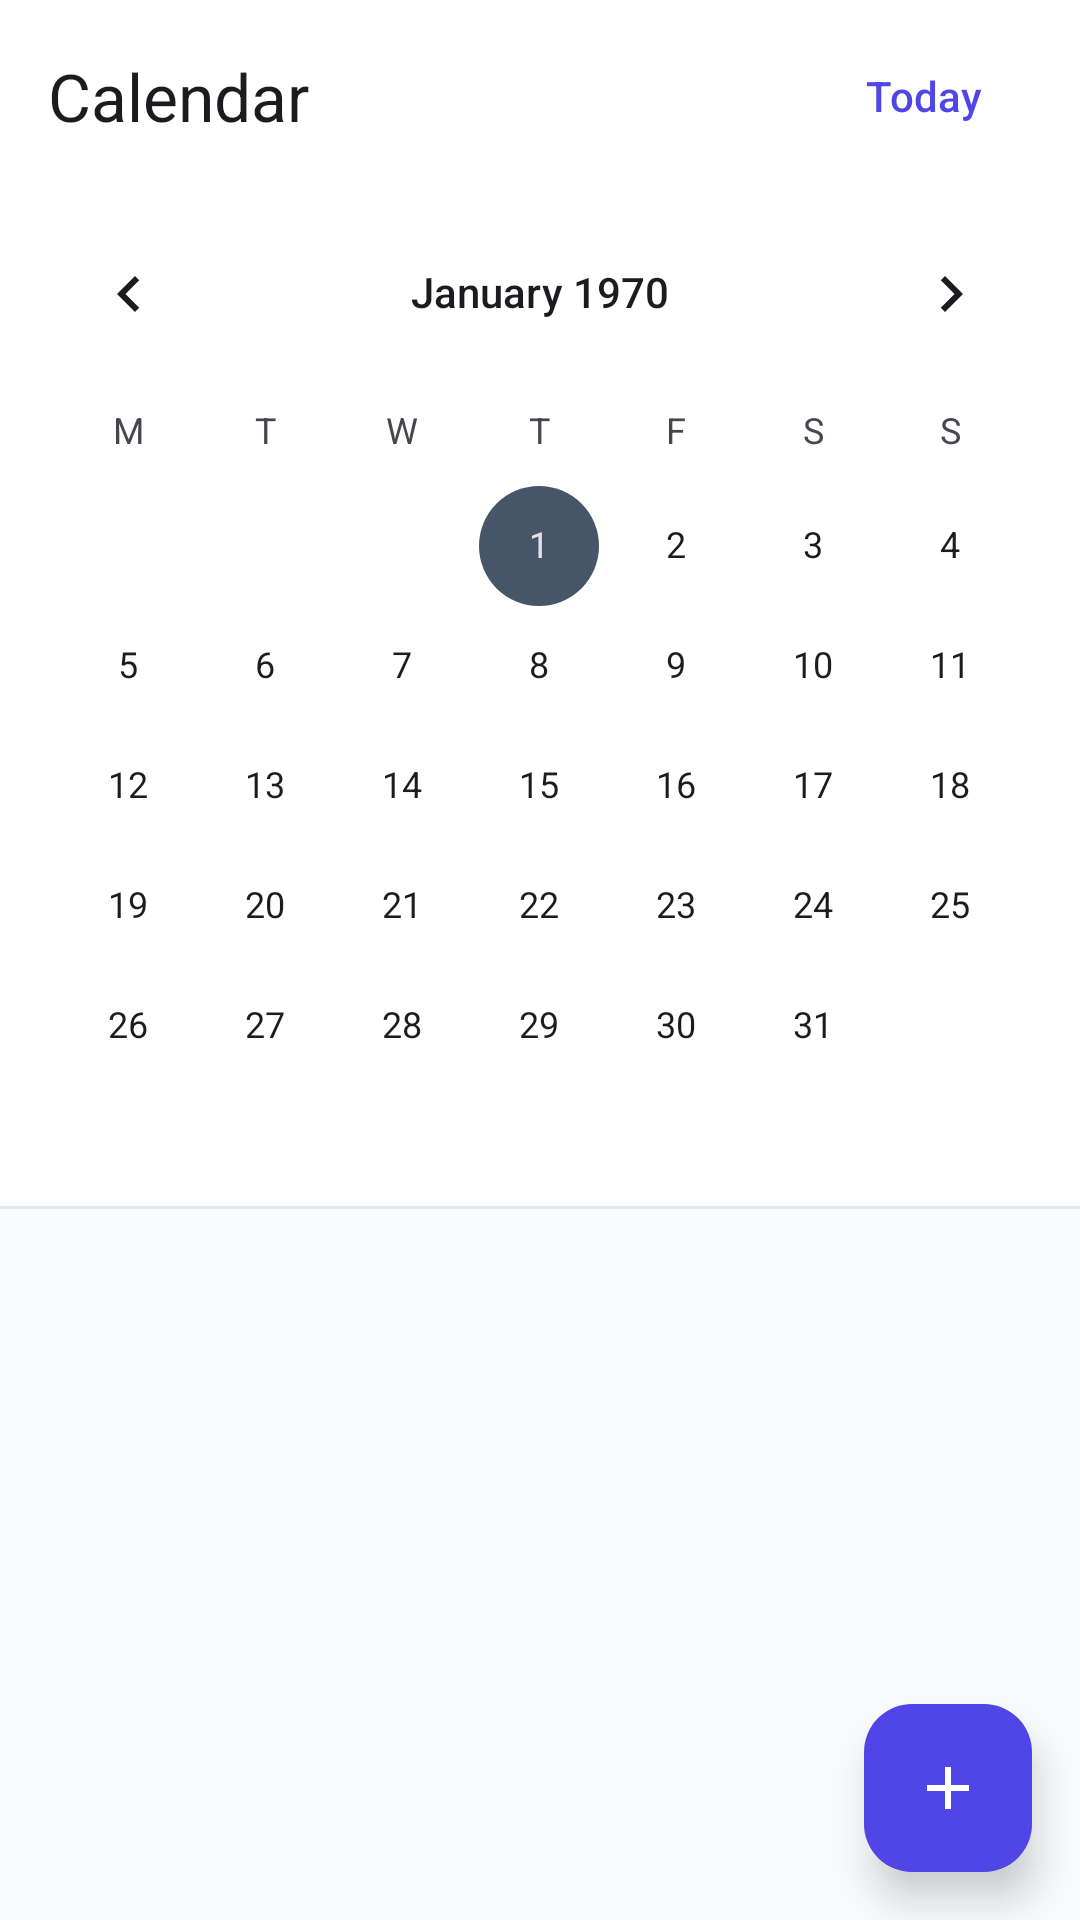

Named icons in this screenshot (1080w x 1920h) and their centers, [x,y]:
Add new item: [948,1788]
